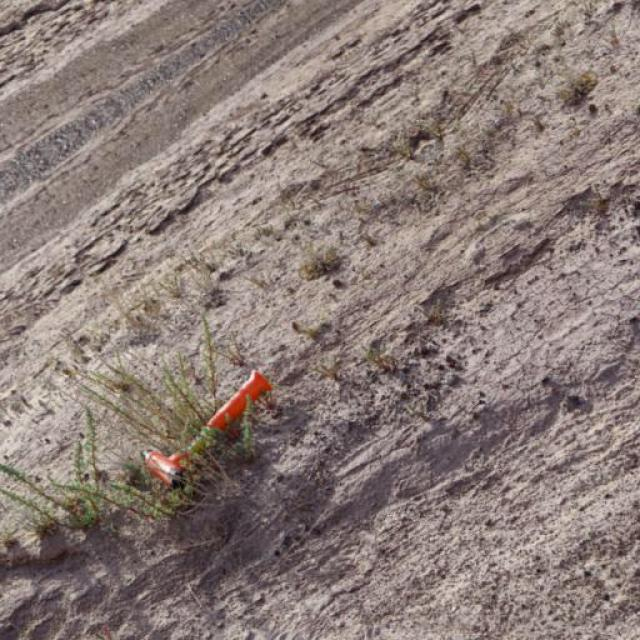mallet: (140, 368, 274, 488)
